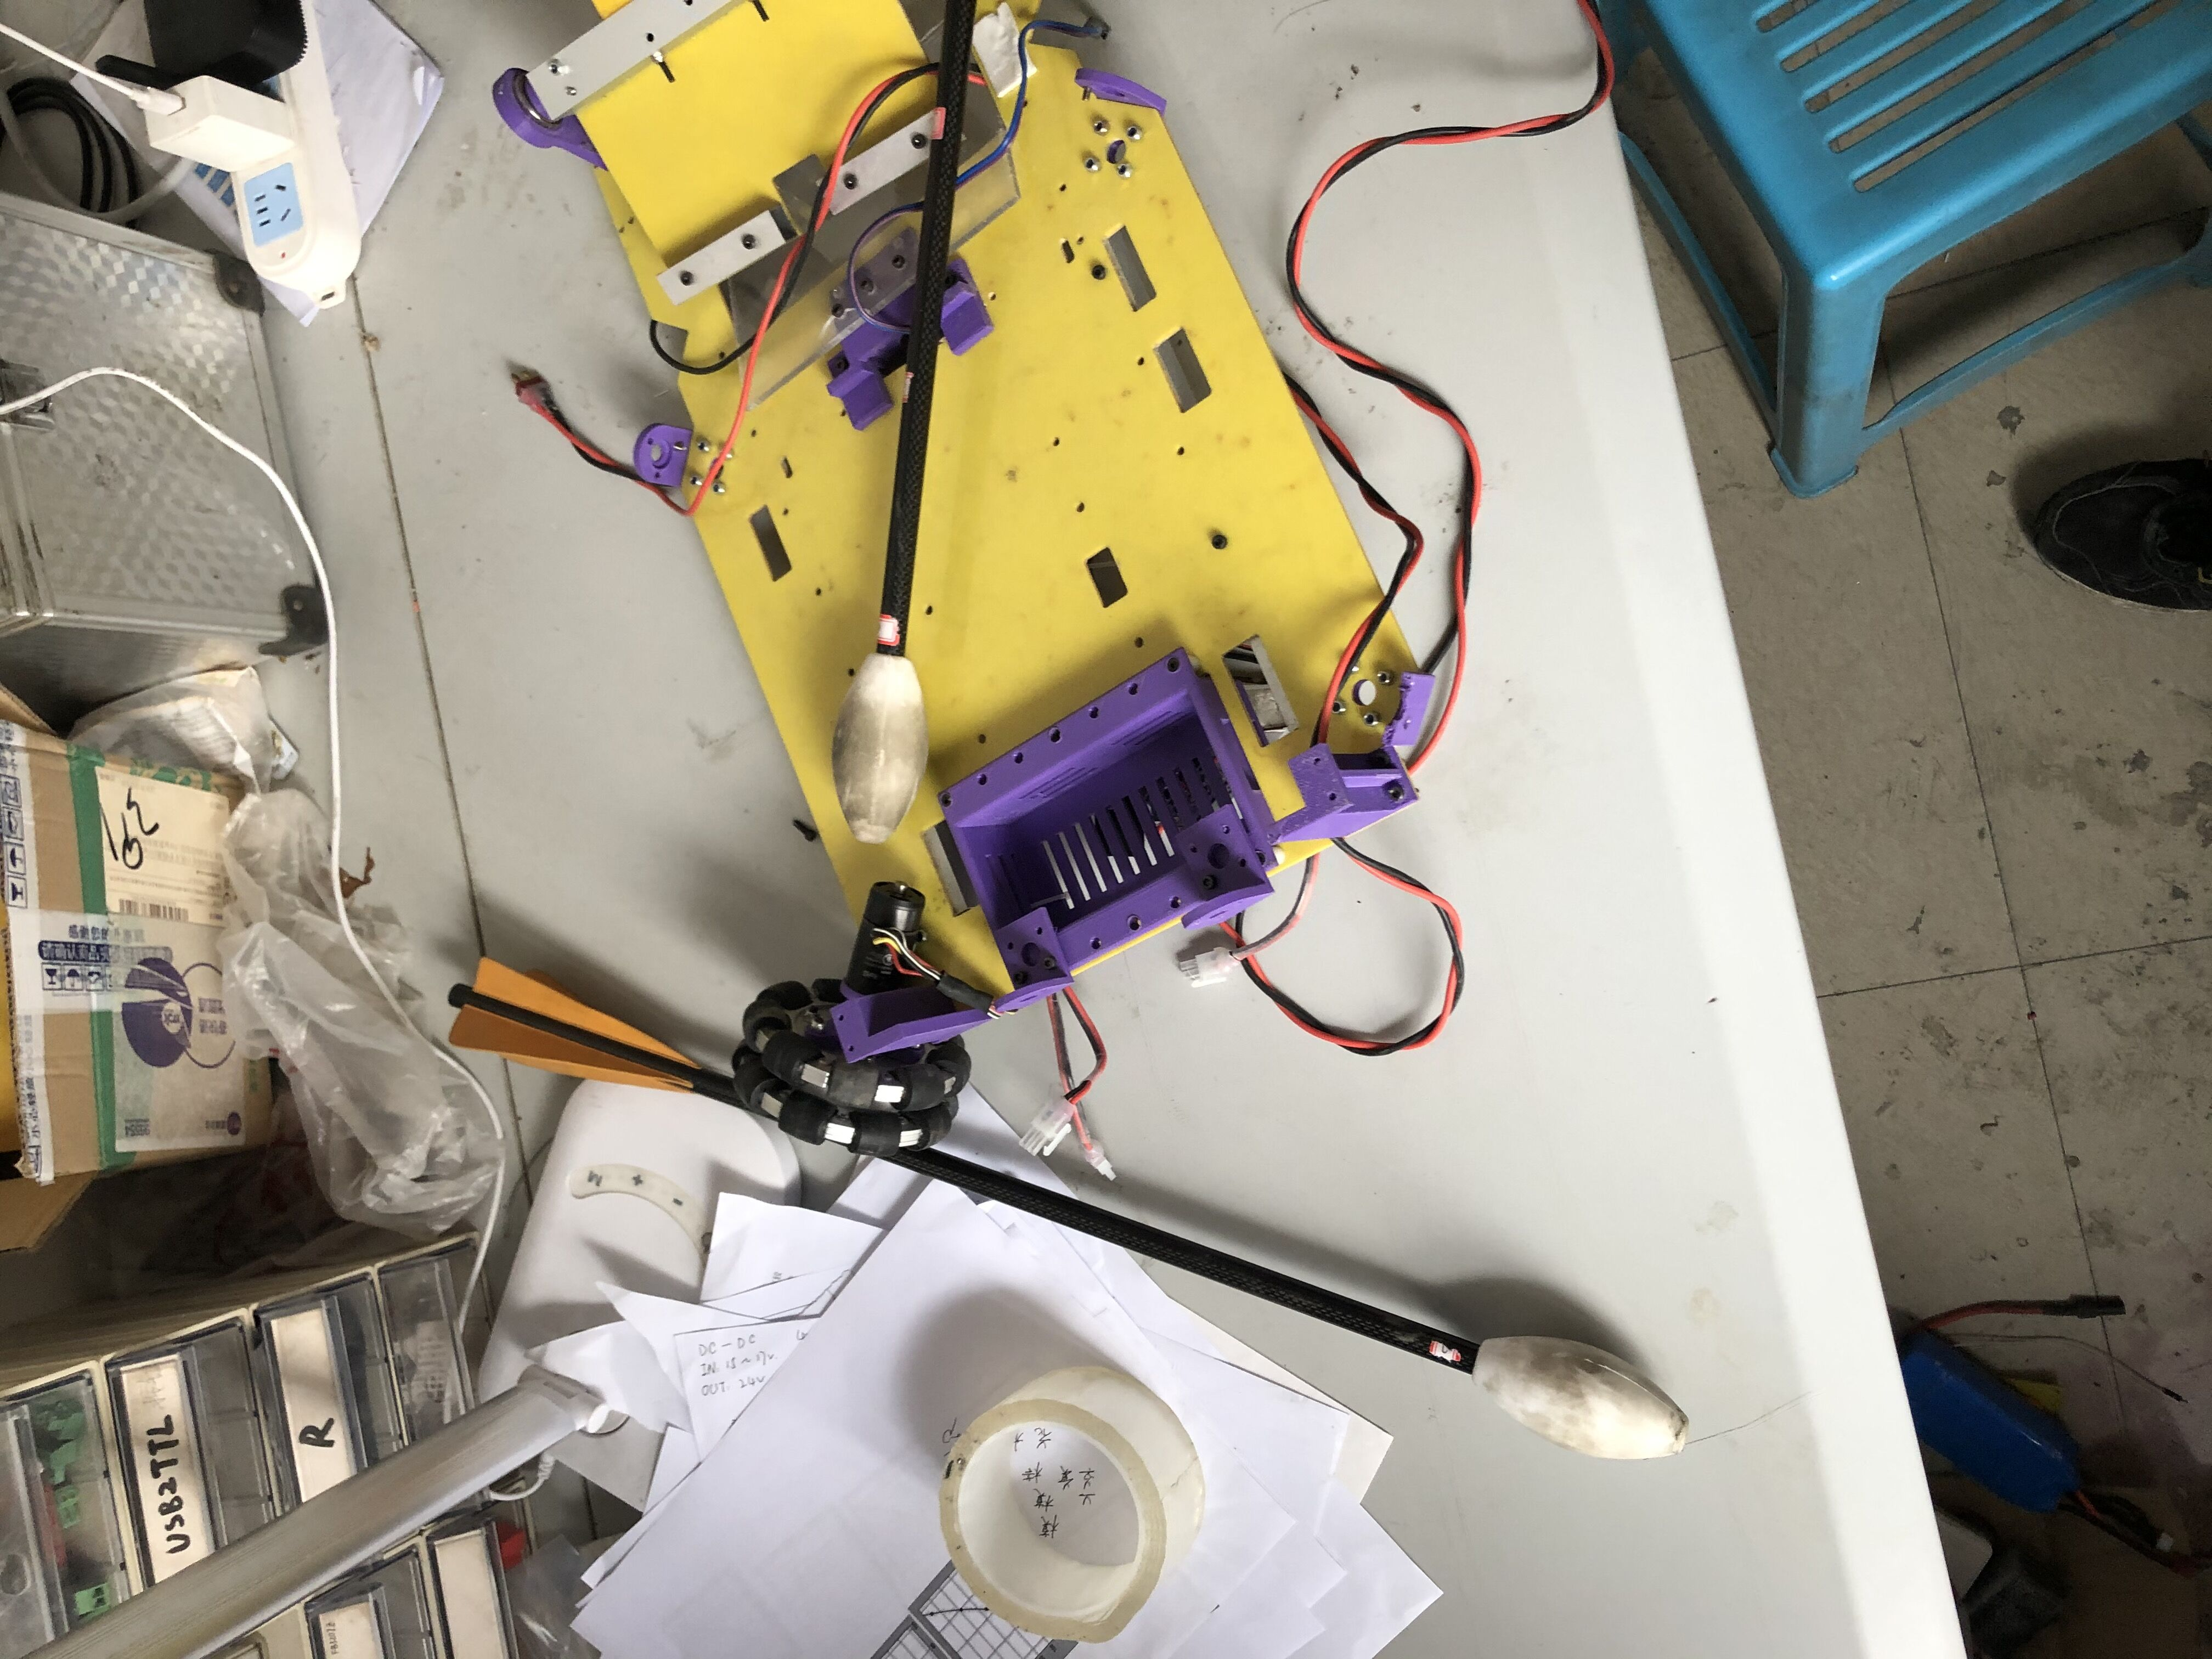arrow: (446, 955, 1689, 1464), (829, 5, 979, 843)
arrowFront: (1468, 1330, 1691, 1464), (829, 650, 932, 840)
